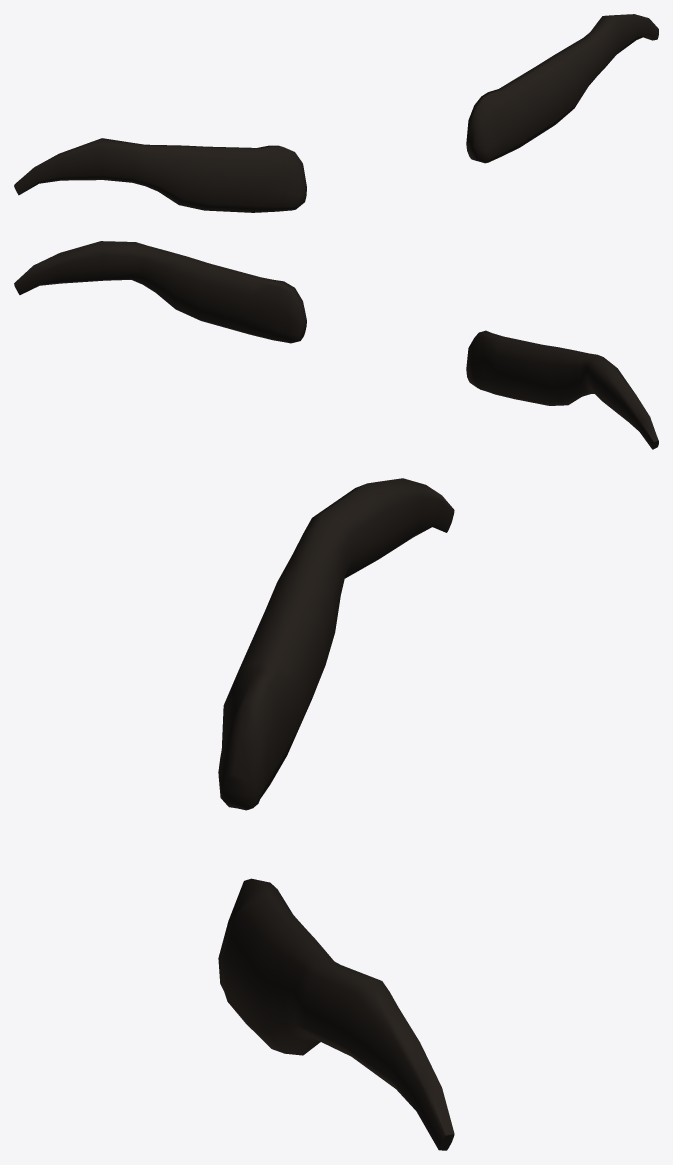
The model's file is Eyebrows_07_01.fbx.
3 views of the same model, one above another, from view 1: azimuth 30°, elevation 25°; view 2: azimuth 150°, elevation 25°; view 3: azimuth 270°, elevation 25° (orthographic). The views are drawn at different scales.
Visible parts, largest first — view 1: Eyebrows_07_01; view 2: Eyebrows_07_01; view 3: Eyebrows_07_01.
Part boxes in pixels (box(x1,y1,x2,y2)): Eyebrows_07_01: box(14, 14, 658, 212); Eyebrows_07_01: box(14, 241, 658, 449); Eyebrows_07_01: box(218, 478, 454, 1150).
Size of the model in its own units: 19.46 by 2.46 by 3.09.
